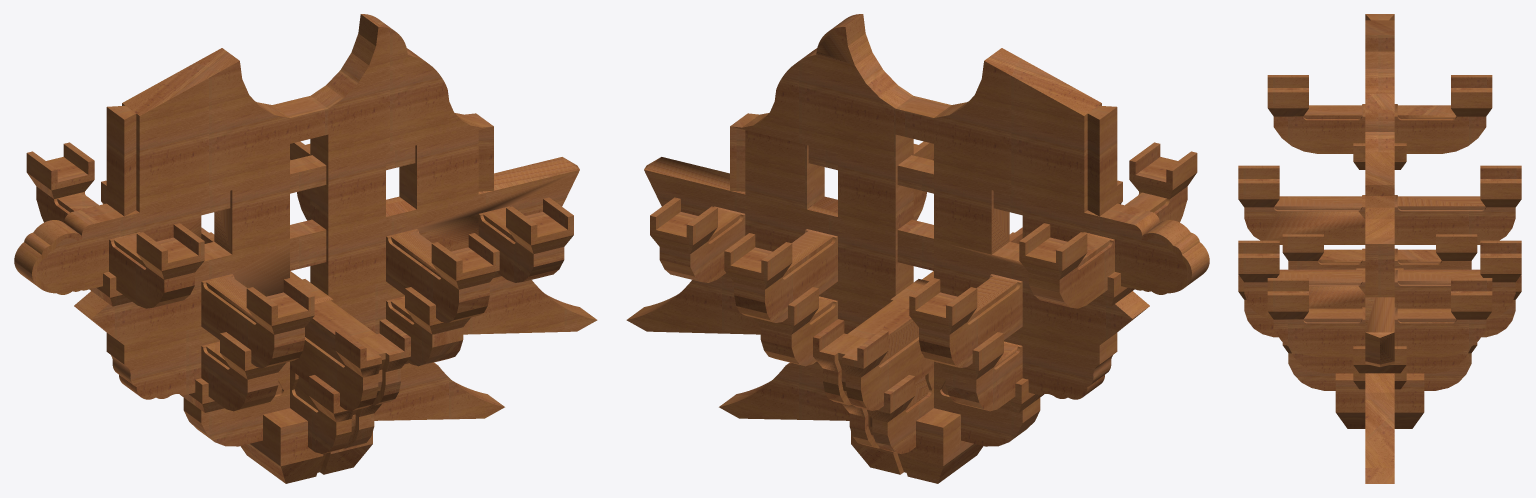
The picture shows the model from 3 angles, left to right: view 1: azimuth 30°, elevation 25°; view 2: azimuth 150°, elevation 25°; view 3: azimuth 270°, elevation 25°; orthographic projection. The views are drawn at different scales.
Parts seen in each view (by area): view 1: samor_4136_5969, samor_4136_5966, samor_4136_5967, samor_4136_5968, samor_4136_5976, samor_4136_5979, samor_4136_5970, samor_4136_5974, samor_4136_5977, samor_4136_5975, samor_4136_5973, samor_4136_5978 (+13 smaller); view 2: samor_4136_5969, samor_4136_5966, samor_4136_5967, samor_4136_5968, samor_4136_5976, samor_4136_5979, samor_4136_5970, samor_4136_5974, samor_4136_5977, samor_4136_5975, samor_4136_5973, samor_4136_5978 (+13 smaller); view 3: samor_4136_5974, samor_4136_5973, samor_4136_5975, samor_4136_5969, samor_4136_5970, samor_4136_5977, samor_4136_5968, samor_4136_5972, samor_4136_5967, samor_4136_5971, samor_4136_5994, samor_4136_5995 (+15 smaller).
Boxes of the visible parts, x1,y1,x2,y2 form: samor_4136_5969: (106, 14, 493, 216); samor_4136_5966: (14, 126, 493, 294); samor_4136_5967: (74, 157, 579, 345); samor_4136_5968: (106, 276, 597, 399); samor_4136_5976: (183, 362, 504, 446); samor_4136_5979: (290, 271, 400, 410); samor_4136_5970: (297, 189, 489, 322); samor_4136_5974: (201, 274, 304, 367); samor_4136_5977: (240, 408, 372, 483); samor_4136_5975: (36, 186, 194, 308); samor_4136_5973: (478, 206, 564, 282); samor_4136_5978: (290, 369, 374, 453); samor_4136_5969: (730, 14, 1117, 216); samor_4136_5966: (730, 126, 1209, 294); samor_4136_5967: (644, 157, 1149, 345); samor_4136_5968: (626, 276, 1117, 399); samor_4136_5976: (719, 362, 1040, 446); samor_4136_5979: (823, 271, 933, 410); samor_4136_5970: (734, 189, 926, 322); samor_4136_5974: (919, 274, 1022, 367); samor_4136_5977: (851, 408, 983, 483); samor_4136_5975: (1029, 186, 1187, 308); samor_4136_5973: (659, 206, 745, 282); samor_4136_5978: (849, 369, 933, 453); samor_4136_5974: (1244, 195, 1515, 244); samor_4136_5973: (1273, 307, 1486, 357); samor_4136_5975: (1273, 104, 1486, 153); samor_4136_5969: (1365, 14, 1394, 243); samor_4136_5970: (1244, 270, 1515, 319); samor_4136_5977: (1335, 373, 1424, 428); samor_4136_5968: (1365, 373, 1394, 467); samor_4136_5972: (1288, 248, 1471, 269); samor_4136_5967: (1365, 297, 1394, 366); samor_4136_5971: (1289, 347, 1470, 373); samor_4136_5994: (1480, 165, 1521, 207); samor_4136_5995: (1238, 165, 1279, 207).
Bounding box in the file's own units: 55.64 × 39.85 × 29.07.
Materials: 1 (1 with a texture image).
